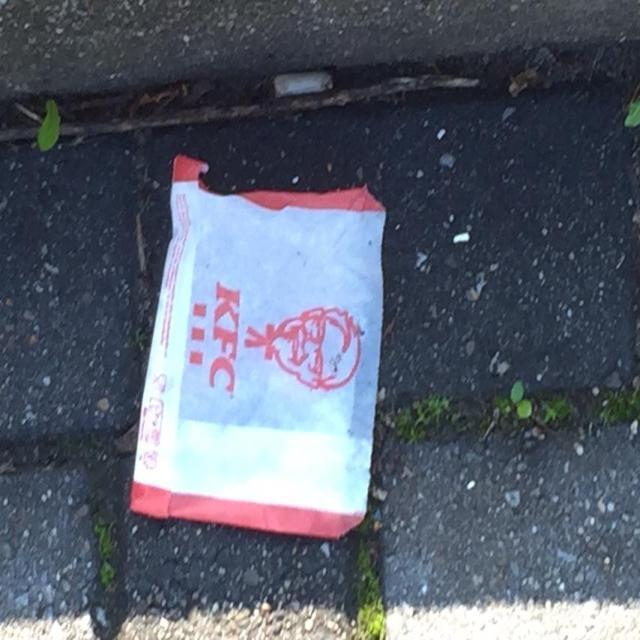Paper: (126, 151, 389, 542)
